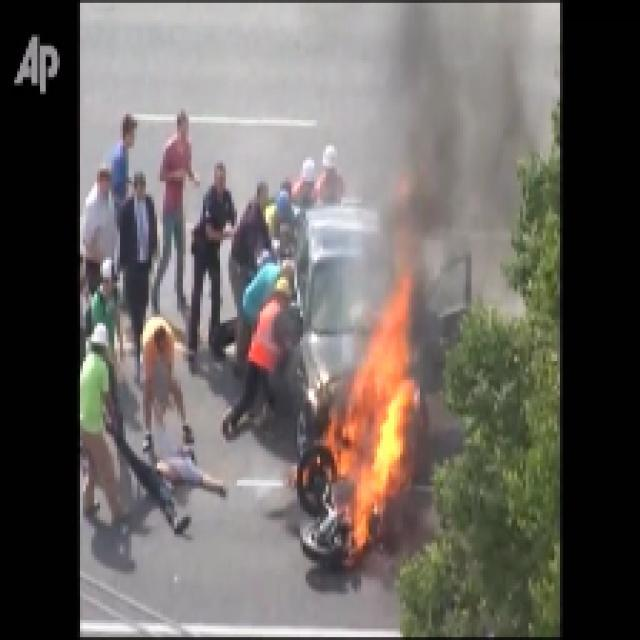Fire: (338, 344, 411, 546)
Smoke: (392, 7, 531, 245)
